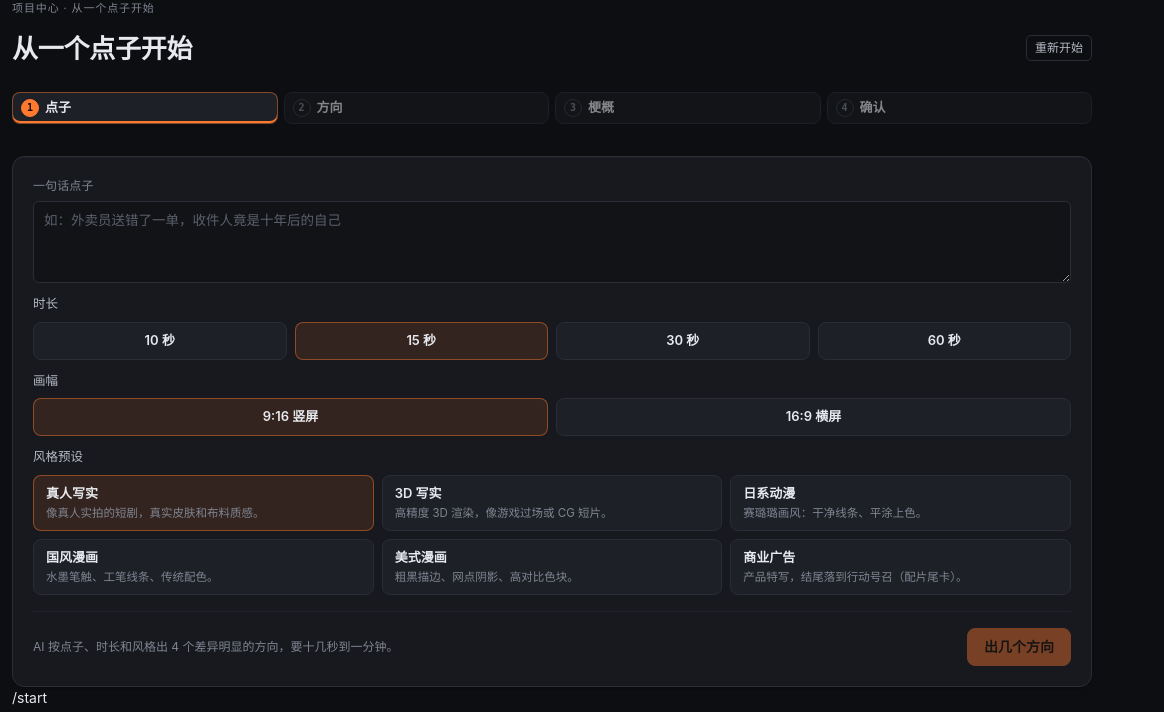
Test: StartPage（从一个点子开始） › 文本模型失败（502）：把后端的说明显示出来，还停在第一步
Type "点子" into the text box labelled "一句话点子" at (552, 242), box [33, 200, 1071, 283]
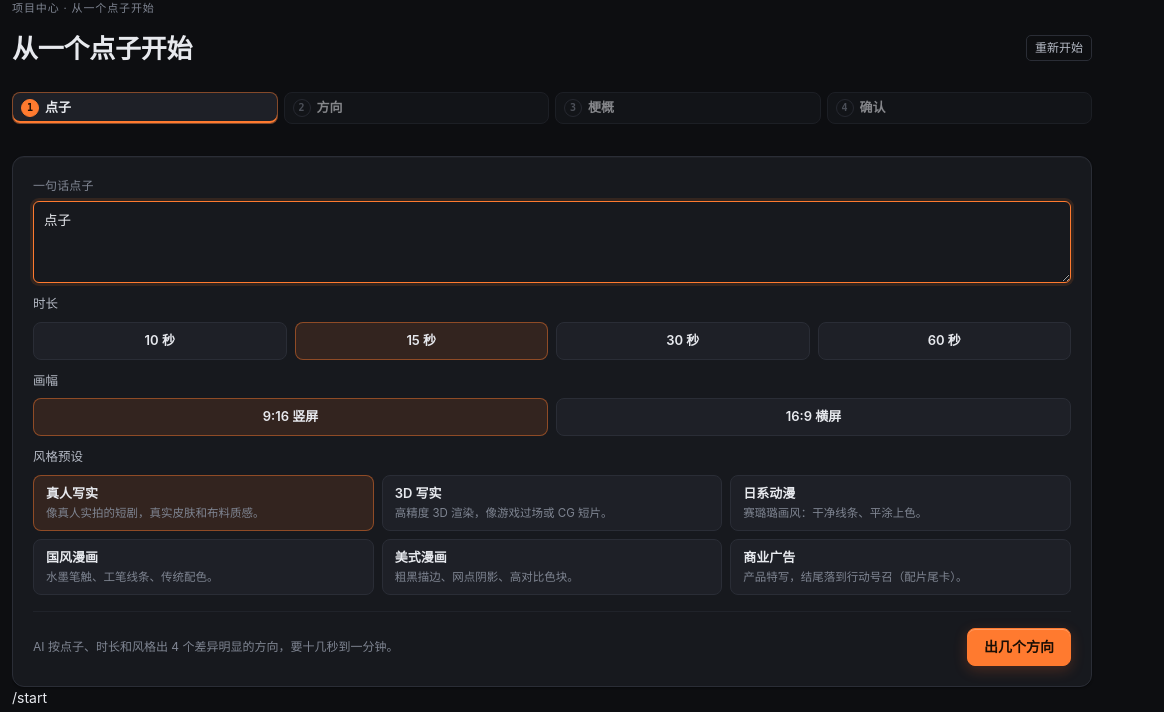
Click the button "出几个方向" at (1019, 647), box [967, 628, 1071, 666]
(page scrolled)
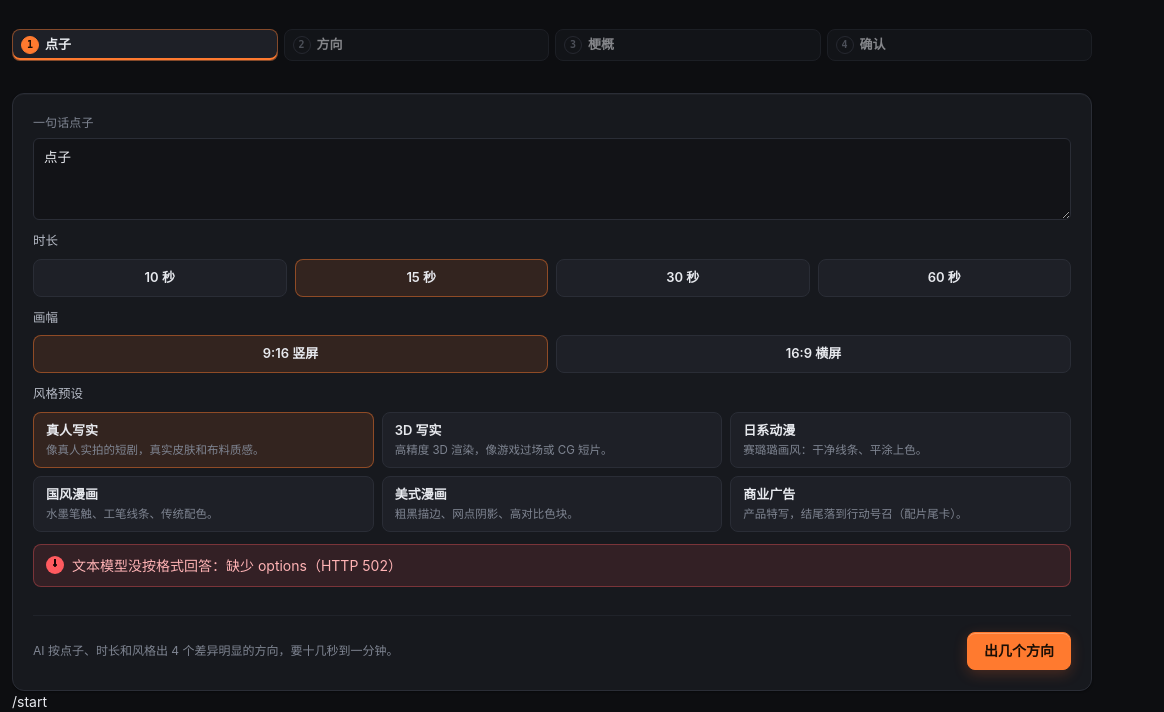
expect the button "出几个方向" is enabled: met, box [967, 632, 1071, 670]
expect the text "文本模型没按格式回答：缺少 options（HTTP 502）" is shown: met, box [33, 544, 1071, 587]
